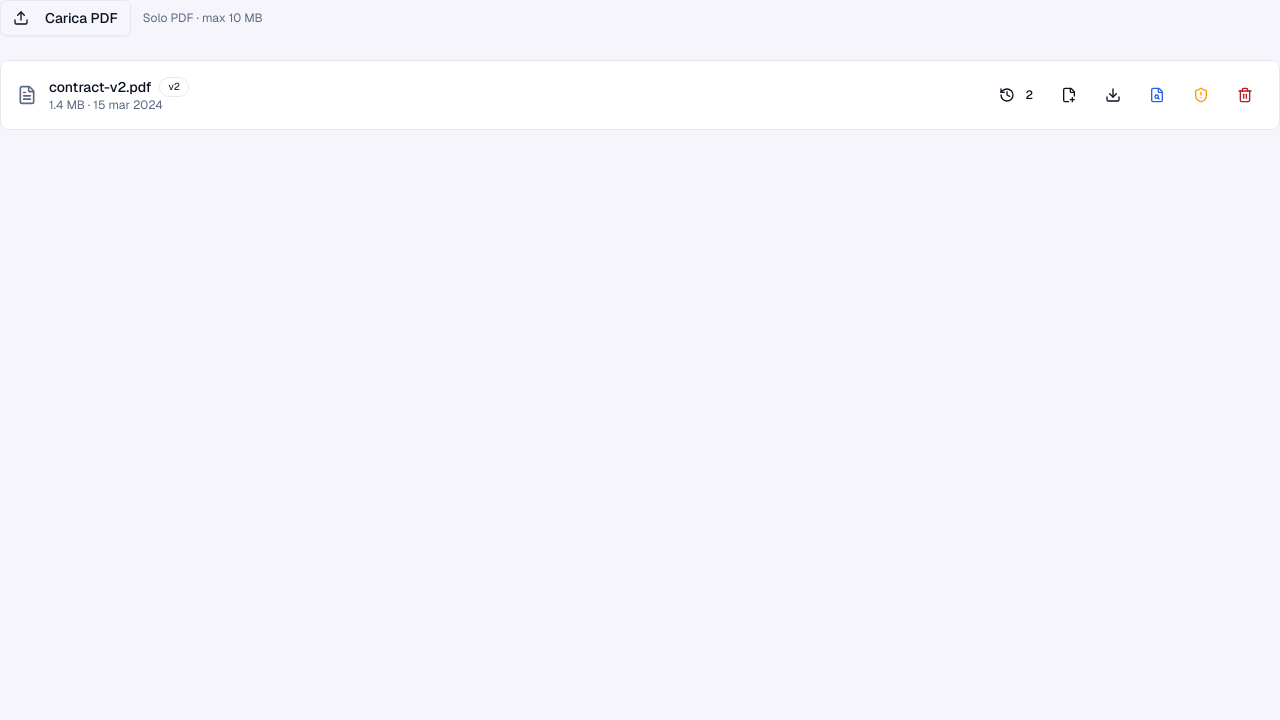
Scenario: DocumentsTab › versioning › opens the version history dialog and fetches versions
This screenshot has width=1280, height=720.
Click the button titled "Cronologia versioni": [1016, 95] box [989, 79, 1043, 111]
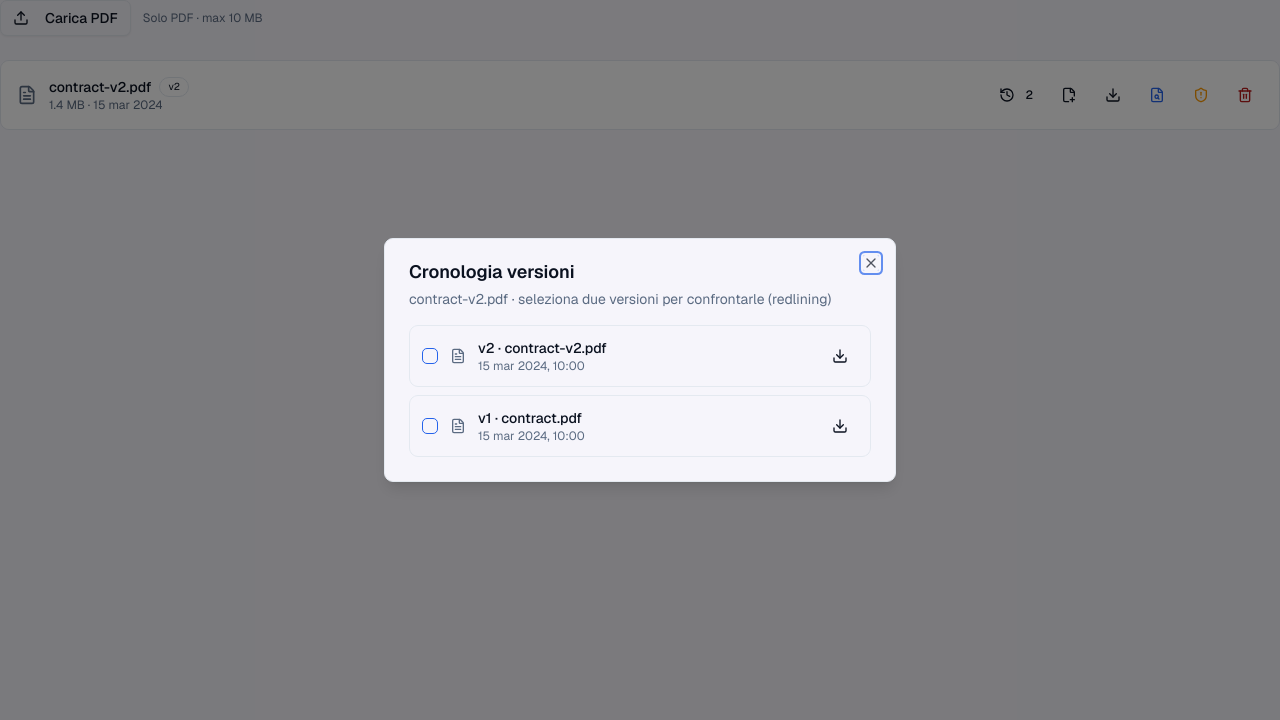
Check: the heading "Cronologia versioni" is shown, box [409, 260, 574, 283]
